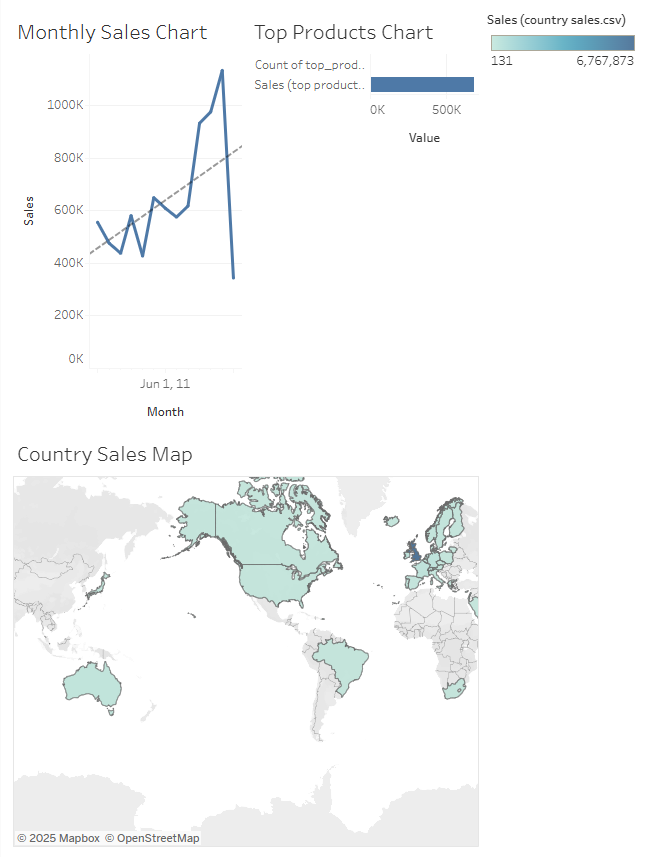

This screenshot's page, from the dashboard's own definition file:
{"tool":"tableau","page":{"name":"Retail Sales Analysis","canvas":[650,860],"ordinal":0},"visuals":[{"type":"worksheet","title":"Monthly Sales Chart","mark":"Line","rows":["Sales"],"cols":["Month"],"box":[8,8,237,422]},{"type":"worksheet","title":"Top Products Chart","mark":"Automatic","box":[245,8,237,422]},{"type":"legend","title":"Country Sales Map","param":"[federated.1dsrkl911izgq01fk7una1ptaj2g].[sum:Sales (country_sales.csv):qk]","box":[482,8,160,65.2]},{"type":"worksheet","title":"Country Sales Map","mark":"Multipolygon","box":[8,430,474,422]}]}

Visuals, with their boxes in screenshot pixels (x1, y1, x2, y2), scaled from the page's 650x860 canvas onto the 649x857 screenshot:
"Monthly Sales Chart" worksheet (Line marks): [x1=8, y1=8, x2=245, y2=428]
"Top Products Chart" worksheet: [x1=245, y1=8, x2=481, y2=428]
"Country Sales Map" legend: [x1=481, y1=8, x2=641, y2=73]
"Country Sales Map" worksheet (Multipolygon marks): [x1=8, y1=428, x2=481, y2=849]
